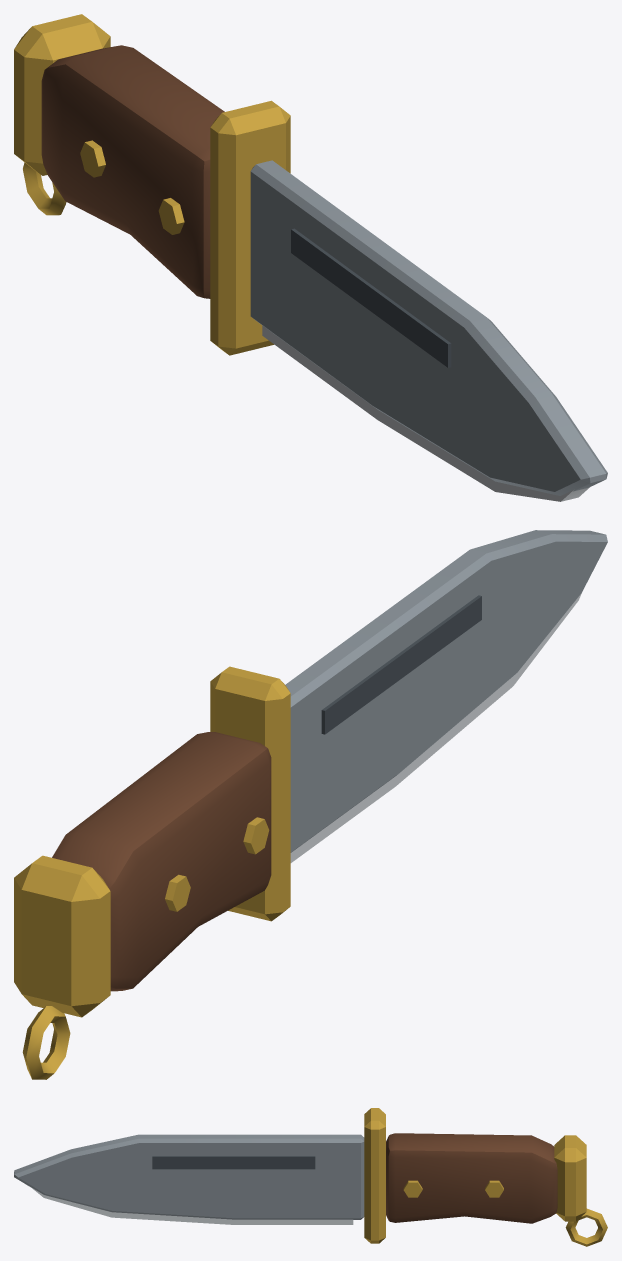
Rendered from Weapon_HuntingKnife.fbx.
3 views of the same model, one above another, from view 1: azimuth 30°, elevation 25°; view 2: azimuth 150°, elevation 25°; view 3: azimuth 270°, elevation 25° (orthographic). The views are drawn at different scales.
Parts seen in each view (by area): view 1: Knife; view 2: Knife; view 3: Knife.
Boxes of the visible parts, bbox=[...] form: Knife: bbox=[14, 14, 607, 501]; Knife: bbox=[14, 530, 607, 1079]; Knife: bbox=[14, 1108, 607, 1246].
Bounding box in the file's own units: 0.204 × 0.538 × 2.19.
